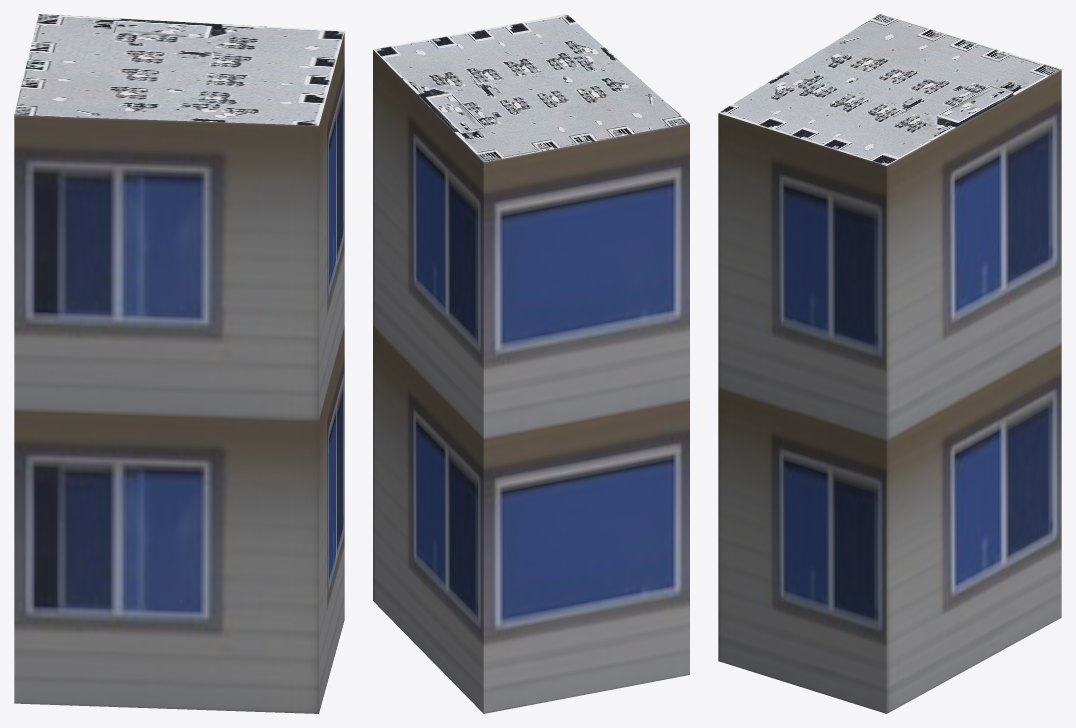
The model's file is ResTex__3848.fbx.
3 renders of one model, left to right at view 1: azimuth 30°, elevation 25°; view 2: azimuth 150°, elevation 25°; view 3: azimuth 270°, elevation 25°, orthographic. The views are drawn at different scales.
Visible parts, largest first — view 1: CityEngineMaterial_23_m, CityEngineMaterial_m; view 2: CityEngineMaterial_23_m, CityEngineMaterial_m; view 3: CityEngineMaterial_23_m, CityEngineMaterial_m.
Part boxes in pixels (<box>): CityEngineMaterial_23_m: <box>14,32,344,713</box>; CityEngineMaterial_m: <box>14,14,344,125</box>; CityEngineMaterial_23_m: <box>373,50,689,713</box>; CityEngineMaterial_m: <box>373,14,689,162</box>; CityEngineMaterial_23_m: <box>718,70,1061,713</box>; CityEngineMaterial_m: <box>718,14,1061,165</box>.
Size of the model in its own units: 3.57 by 6 by 3.41.
Materials: 2 (2 with a texture image).
